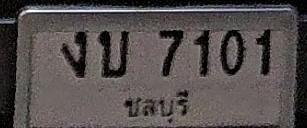0: (220, 29, 245, 75)
1: (194, 29, 210, 76), (256, 28, 271, 75)
7: (159, 29, 183, 76)
A07: (62, 30, 86, 77)
A26: (98, 30, 129, 77)
CBI: (121, 88, 189, 123)
